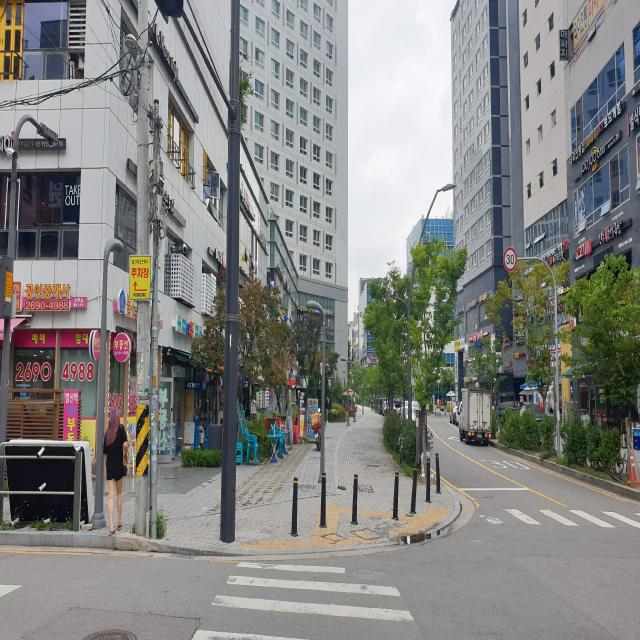횡단보도: (189, 558, 415, 640), (471, 496, 640, 528)
